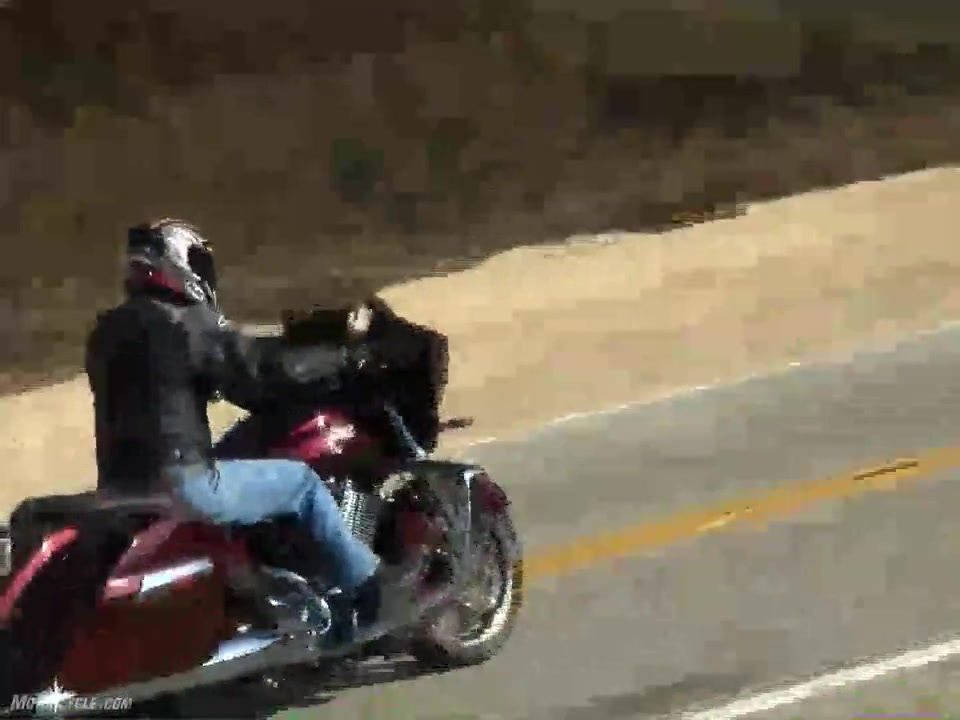motorbike: (1, 301, 529, 720)
